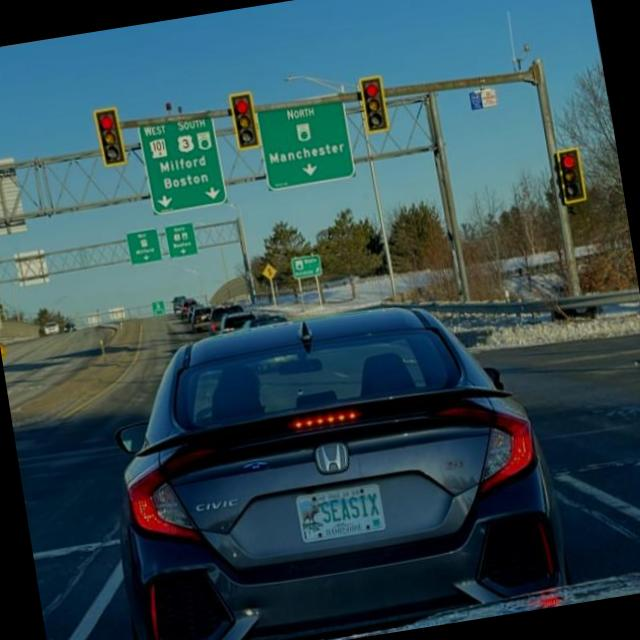LicensePlate: (295, 483, 385, 544)
